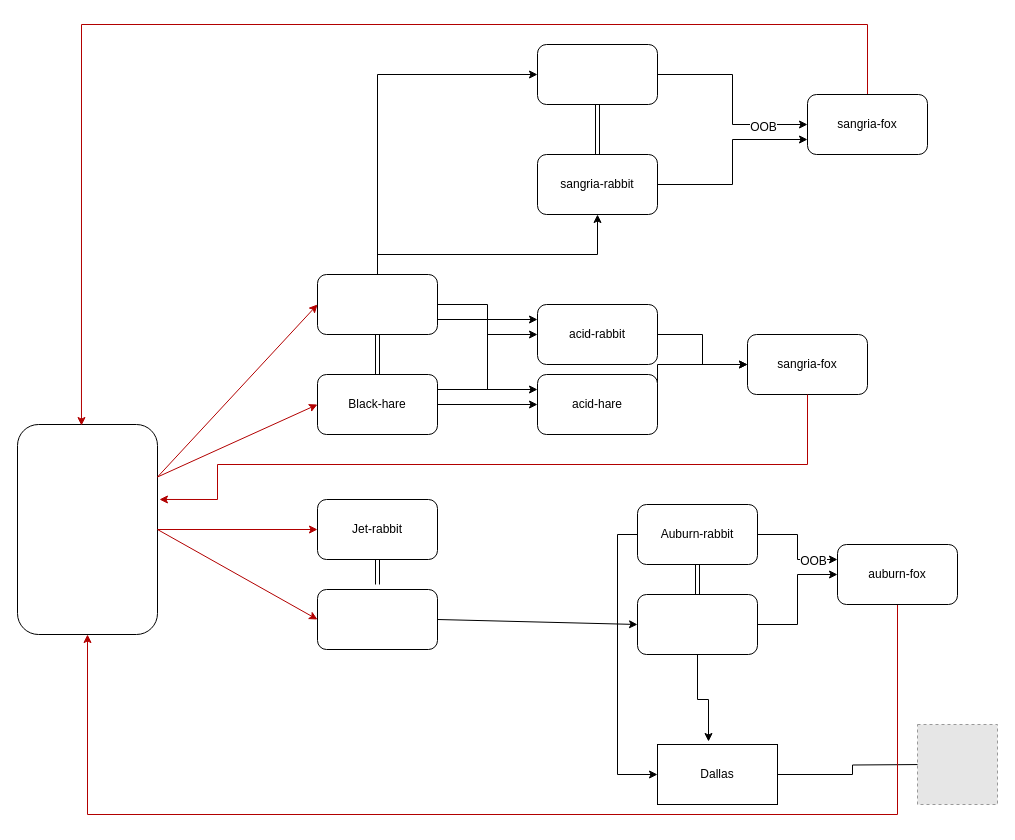
This 1015x840 diagram has some shape labels left out. Grey dashed boxes stand in for pictures. The box of each missing label's shape, as (x1, y1, x2, y2) in pixels:
Auburn-hare: (636, 594, 758, 654)
Black-rabbit: (316, 274, 438, 334)
Jet-hare: (316, 588, 438, 650)
JetBlack: (16, 424, 158, 634)
Sangria-hare: (536, 44, 658, 104)
